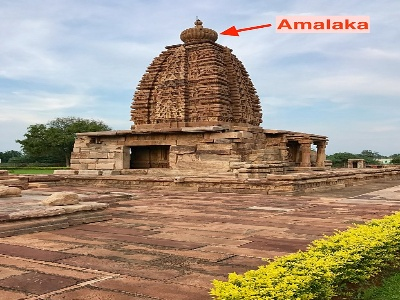amalaka: (174, 25, 233, 46)
gopuram: (129, 45, 271, 138)
mandapa: (281, 120, 336, 179)
